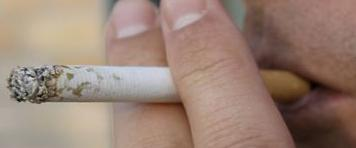smoke: (6, 63, 311, 104)
